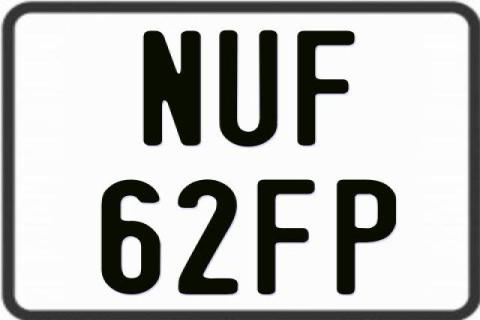0: (177, 179, 238, 296), (101, 180, 161, 294)
F: (257, 178, 321, 296), (294, 28, 354, 147)
N: (142, 28, 200, 144)
P: (336, 179, 399, 297)
U: (219, 31, 279, 147)
